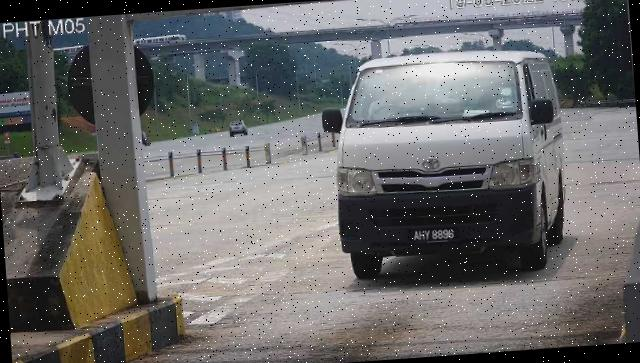License_Plate: (407, 223, 463, 248)
van: (329, 46, 573, 285)
